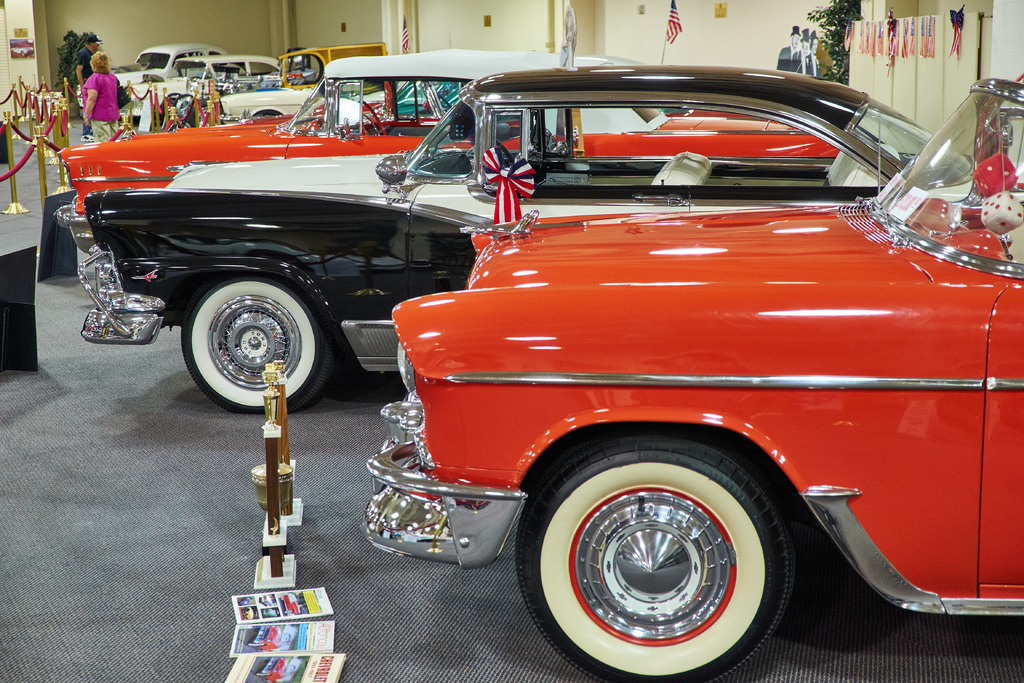Car: (81, 60, 979, 417), (48, 49, 842, 189), (220, 76, 449, 119), (154, 52, 284, 111), (112, 41, 240, 86)
